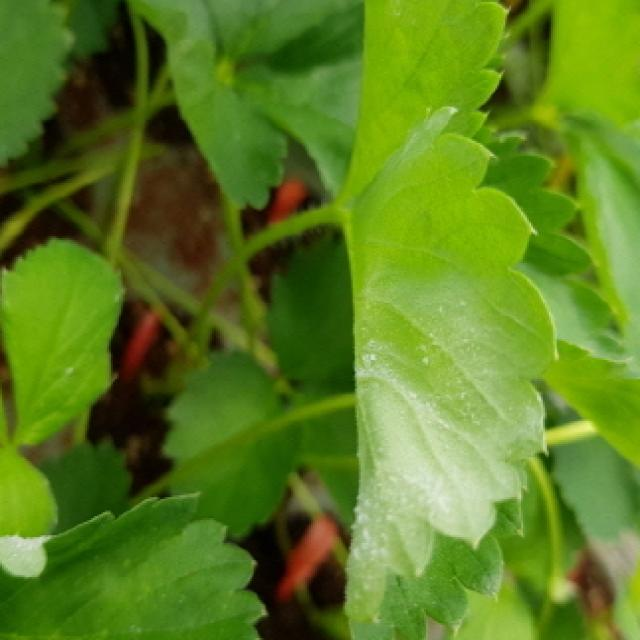Powdery Mildew Leaf: (340, 105, 562, 640), (0, 491, 270, 640)
